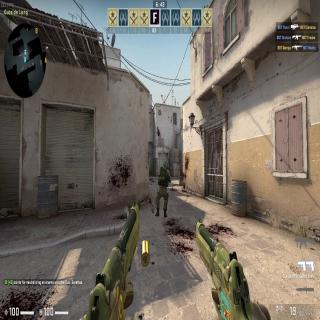T-Body: (157, 159, 171, 218)
T-Head: (163, 160, 169, 170)
